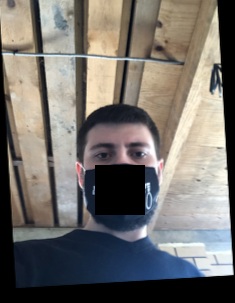with_mask: (83, 133, 159, 232)
